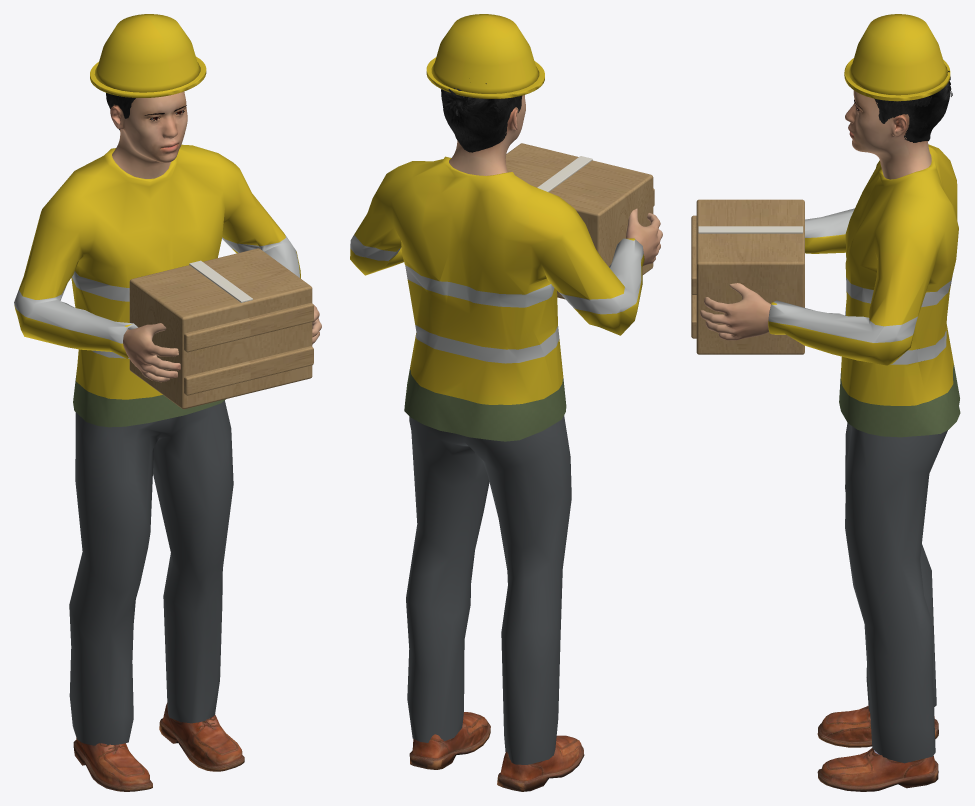
Rendered from worker-crate.glb.
3 views of the same model, side by side, from view 1: azimuth 30°, elevation 25°; view 2: azimuth 150°, elevation 25°; view 3: azimuth 270°, elevation 25° (orthographic).
Parts seen in each view (by area): view 1: male_casualsuit02, Carried crate | connected timber batten, Sam | anatomical body, shoes01, Parcel paper seam; view 2: male_casualsuit02, Carried crate | connected timber batten, shoes01, short01, Sam | anatomical body, Parcel paper seam; view 3: male_casualsuit02, Carried crate | connected timber batten, Sam | anatomical body, shoes01, short01, Parcel paper seam.
Boxes of the visible parts, x1,y1,x2,y2 form: male_casualsuit02: [14, 14, 300, 745]; Carried crate | connected timber batten: [129, 248, 313, 409]; Sam | anatomical body: [110, 91, 321, 382]; shoes01: [73, 703, 244, 791]; Parcel paper seam: [189, 260, 252, 302]; male_casualsuit02: [350, 14, 644, 764]; Carried crate | connected timber batten: [505, 143, 654, 299]; shoes01: [409, 712, 584, 791]; short01: [441, 83, 522, 152]; Sam | anatomical body: [449, 95, 662, 265]; Parcel paper seam: [537, 156, 592, 192]; male_casualsuit02: [768, 14, 960, 763]; Carried crate | connected timber batten: [691, 199, 804, 354]; Sam | anatomical body: [700, 90, 931, 340]; shoes01: [817, 705, 938, 791]; short01: [874, 71, 952, 142]; Parcel paper seam: [698, 226, 803, 233].
Bounding box in the file's own units: 0.7277 × 1.88 × 0.6169.
Materials: 14 (14 with a texture image).
